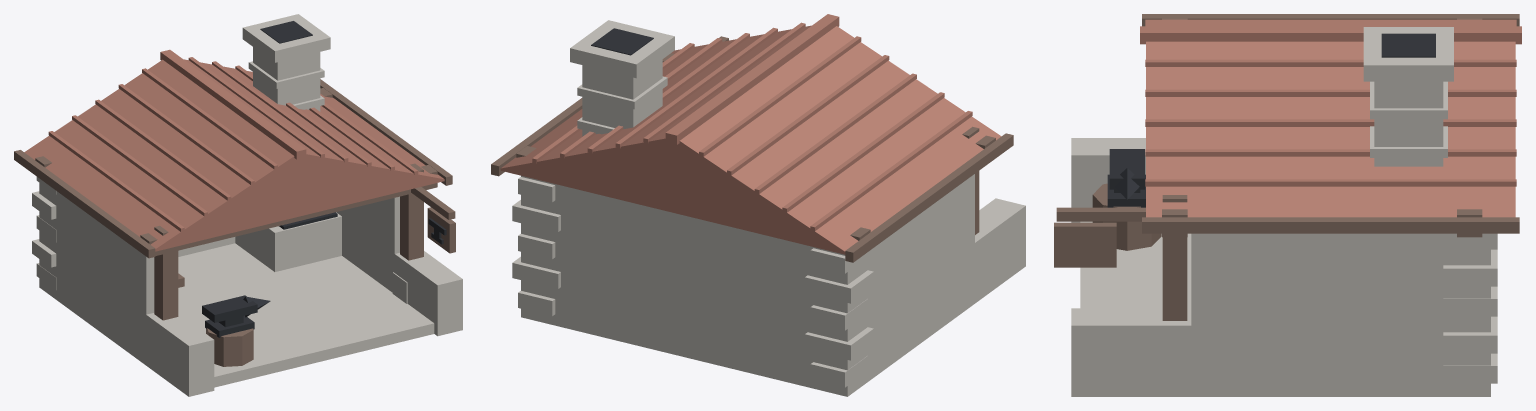
File: smithy.glb
3 views of the same model, side by side, from view 1: azimuth 30°, elevation 25°; view 2: azimuth 150°, elevation 25°; view 3: azimuth 270°, elevation 25° (orthographic). The views are drawn at different scales.
Visible parts, largest first — view 1: smithy_stone, smithy_roof, smithy_wood, smithy_dark; view 2: smithy_stone, smithy_roof, smithy_wood, smithy_dark; view 3: smithy_stone, smithy_roof, smithy_wood, smithy_dark.
Boxes of the visible parts, x1,y1,x2,y2 form: smithy_stone: [32, 14, 462, 396]; smithy_roof: [24, 49, 444, 251]; smithy_wood: [14, 79, 455, 366]; smithy_dark: [202, 21, 446, 337]; smithy_stone: [512, 20, 1025, 396]; smithy_roof: [500, 14, 1001, 254]; smithy_wood: [491, 36, 1013, 262]; smithy_dark: [591, 28, 653, 55]; smithy_stone: [1071, 27, 1497, 396]; smithy_roof: [1140, 19, 1521, 217]; smithy_wood: [1054, 14, 1519, 320]; smithy_dark: [1107, 33, 1435, 207].
Size of the model in its own units: 2 by 1.4 by 1.9.
